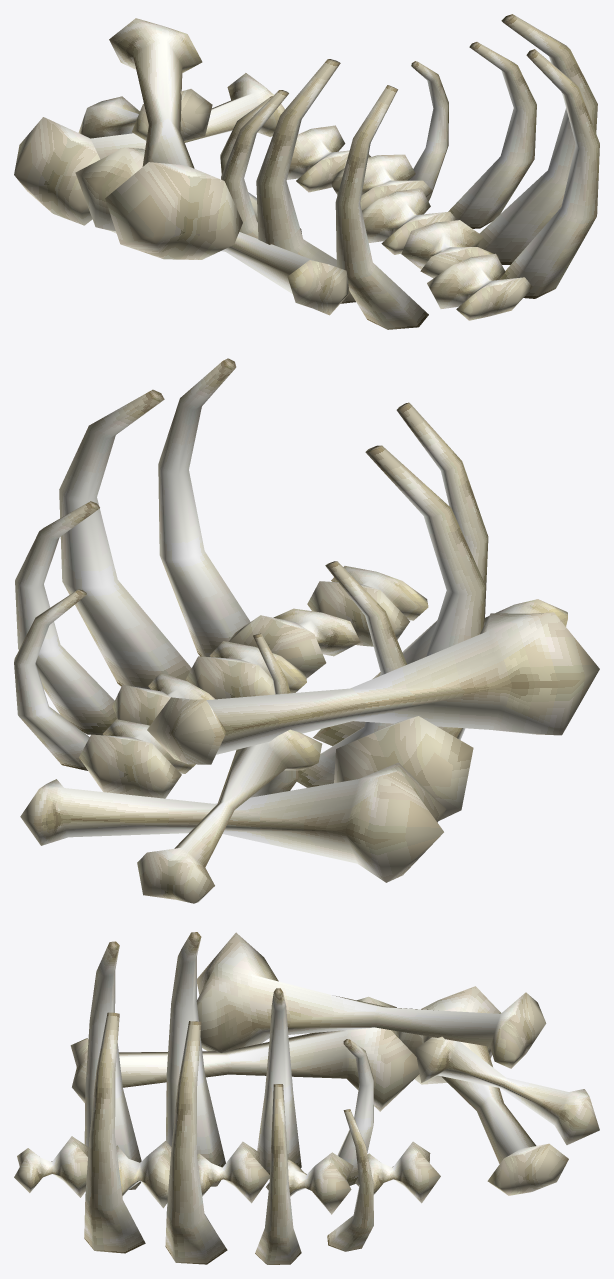
Rendered from om_bones_03.obj.
The picture shows the model from 3 angles, top to bottom: view 1: azimuth 30°, elevation 25°; view 2: azimuth 150°, elevation 25°; view 3: azimuth 270°, elevation 25°; orthographic projection. The views are drawn at different scales.
Parts seen in each view (by area): view 1: om_bones_03; view 2: om_bones_03; view 3: om_bones_03.
Part boxes in pixels (left/top/right/bottom): om_bones_03: left=14, top=14, right=599, bottom=329; om_bones_03: left=14, top=358, right=599, bottom=903; om_bones_03: left=14, top=932, right=599, bottom=1264.
Bounding box in the file's own units: 2.43 × 1.21 × 2.76.
